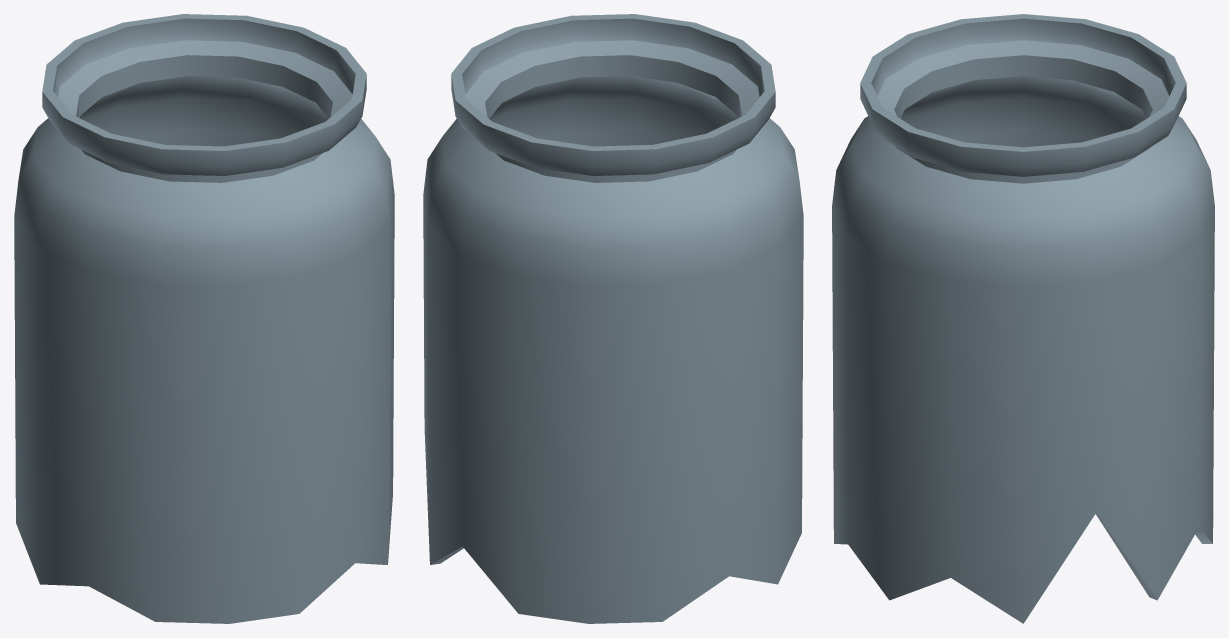
The model's file is Frasco_03.fbx.
3 renders of one model, left to right at view 1: azimuth 30°, elevation 25°; view 2: azimuth 150°, elevation 25°; view 3: azimuth 270°, elevation 25°, orthographic.
Parts seen in each view (by area): view 1: Frasco_03; view 2: Frasco_03; view 3: Frasco_03.
Part boxes in pixels (x1,y1,x2,y2): Frasco_03: [14, 14, 394, 623]; Frasco_03: [423, 14, 803, 623]; Frasco_03: [832, 14, 1214, 623].
Size of the model in its own units: 24.53 by 32.58 by 24.53.
